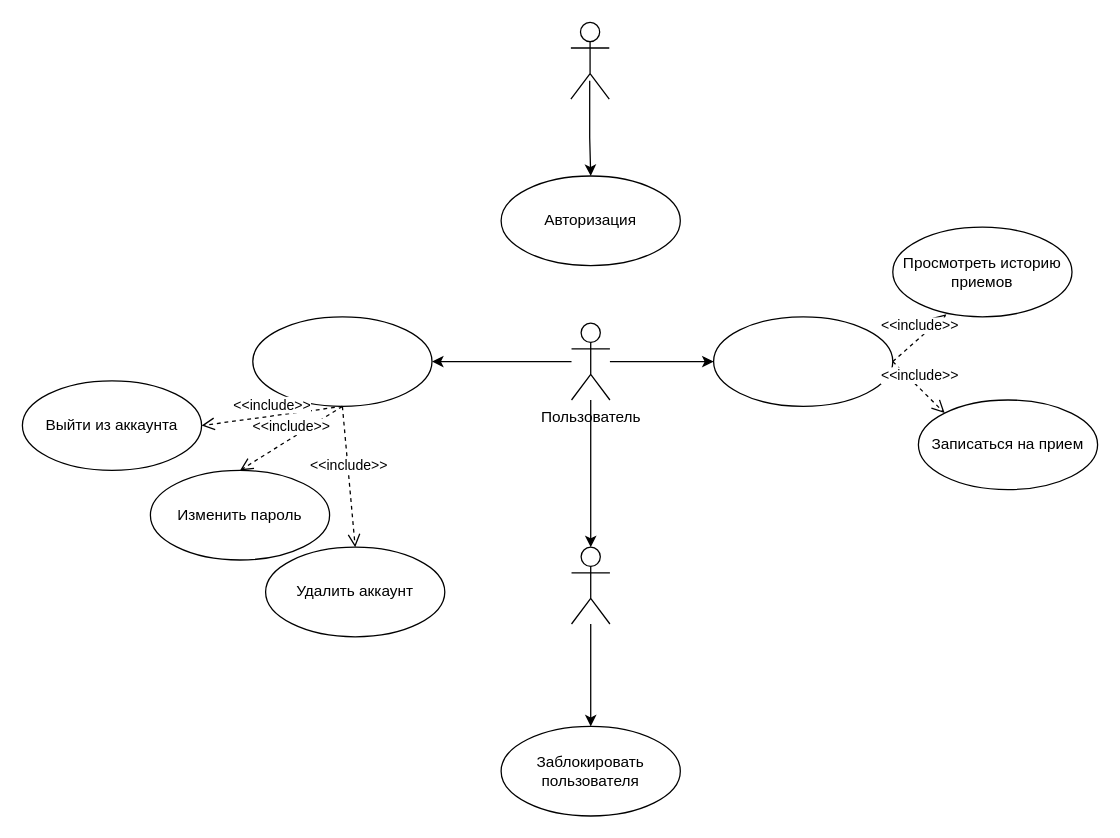
Image size: 1120x838. Some labels were removed from this diagram. The centre of each missing label's shape, as x and y in pixels:
Администратор: the point at 590,585
Гость: the point at 589,60
Работа с аккаунтом: the point at 342,361
Работа с моими приемами: the point at 802,361
